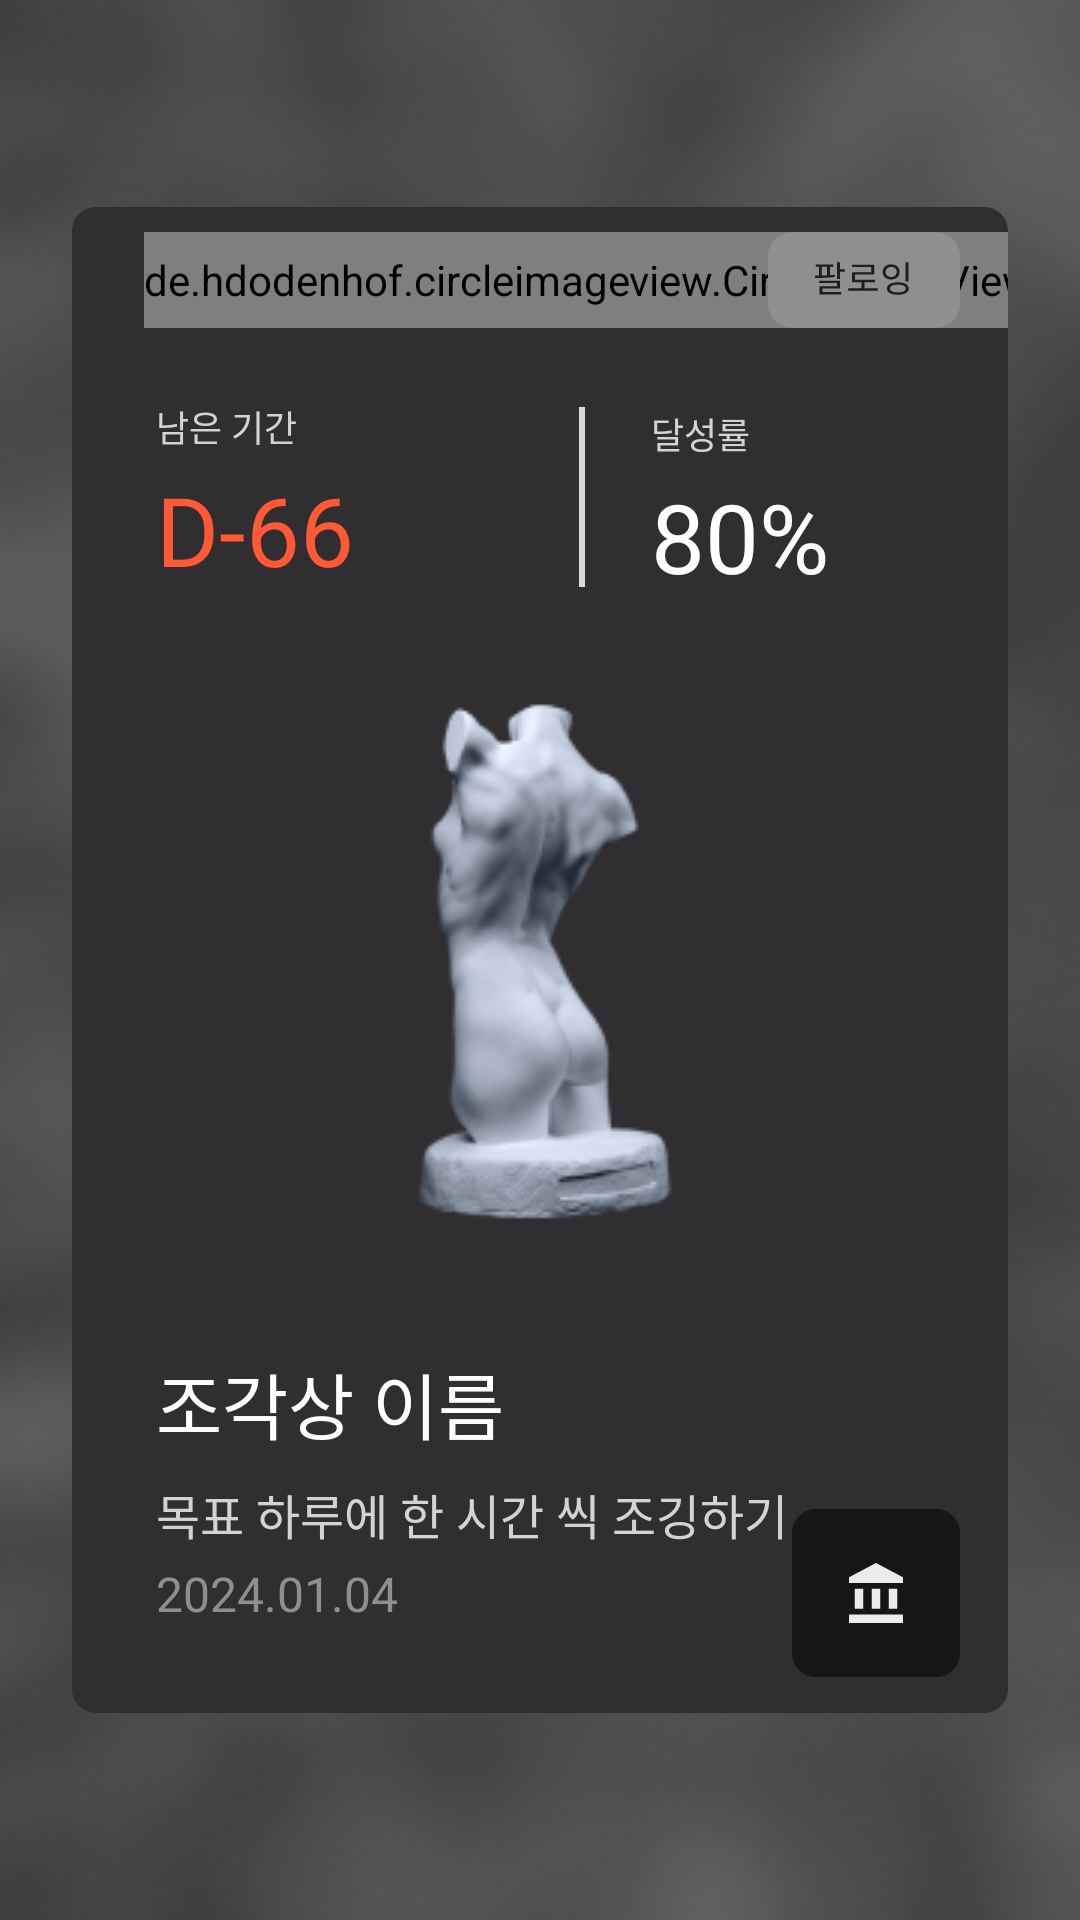

Icons on this 1080px x 1920px Android screen, each with the point to tap as point (x, y):
go musuem: point (876, 1593)
